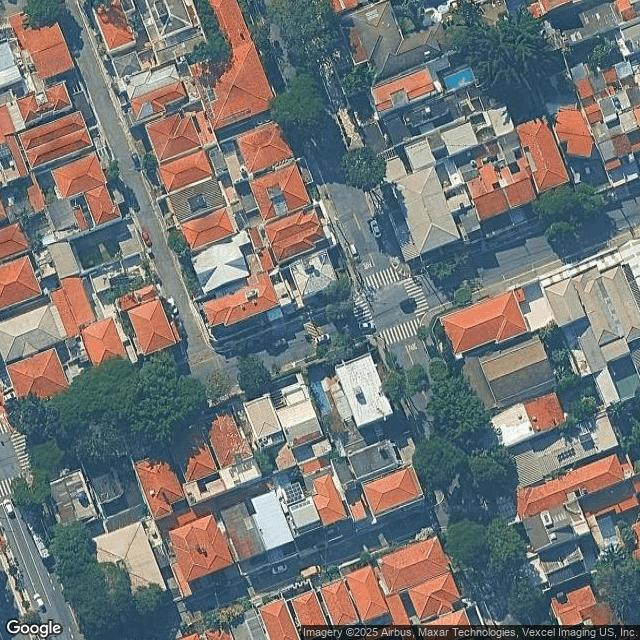pool: (460, 79, 468, 98)
